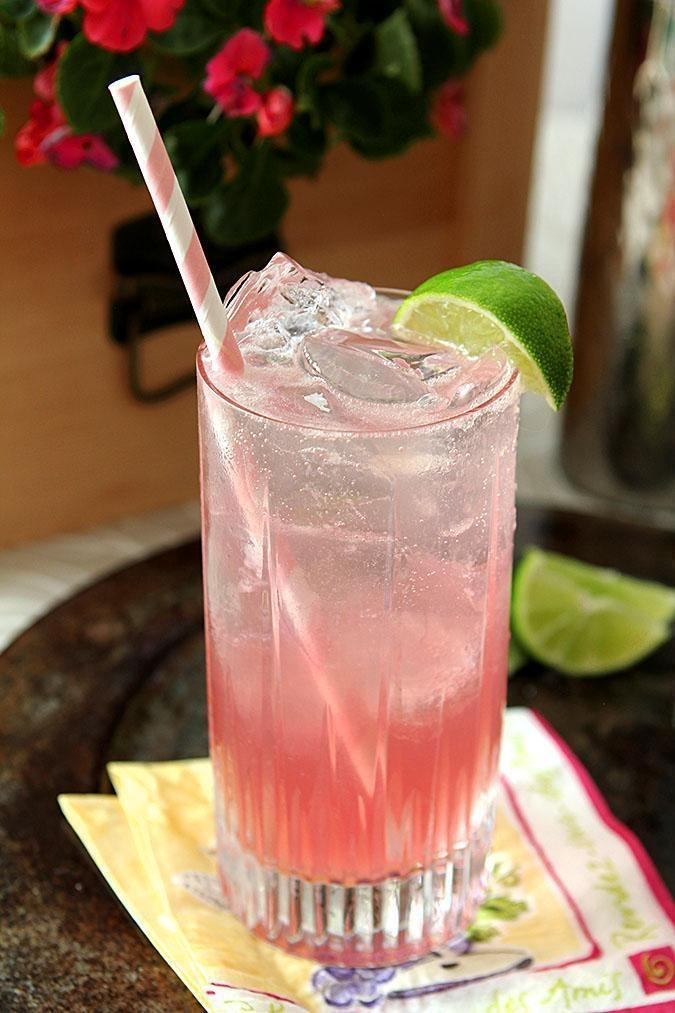glass-normal: (198, 275, 524, 974)
